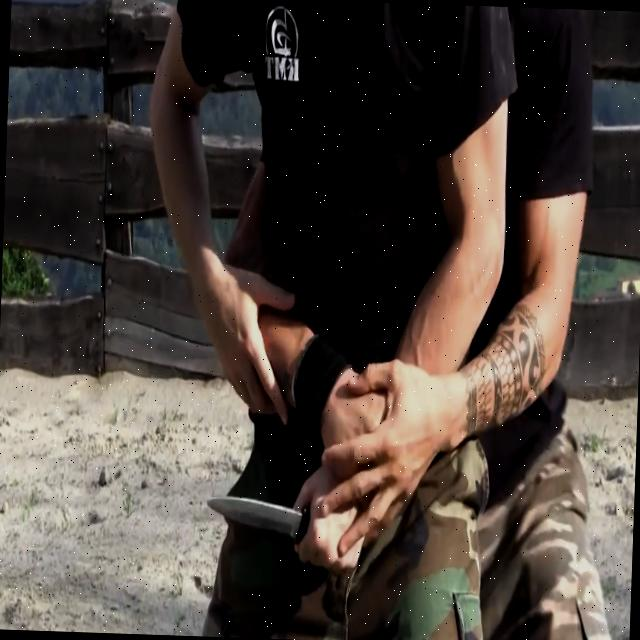knife: (204, 495, 312, 547)
